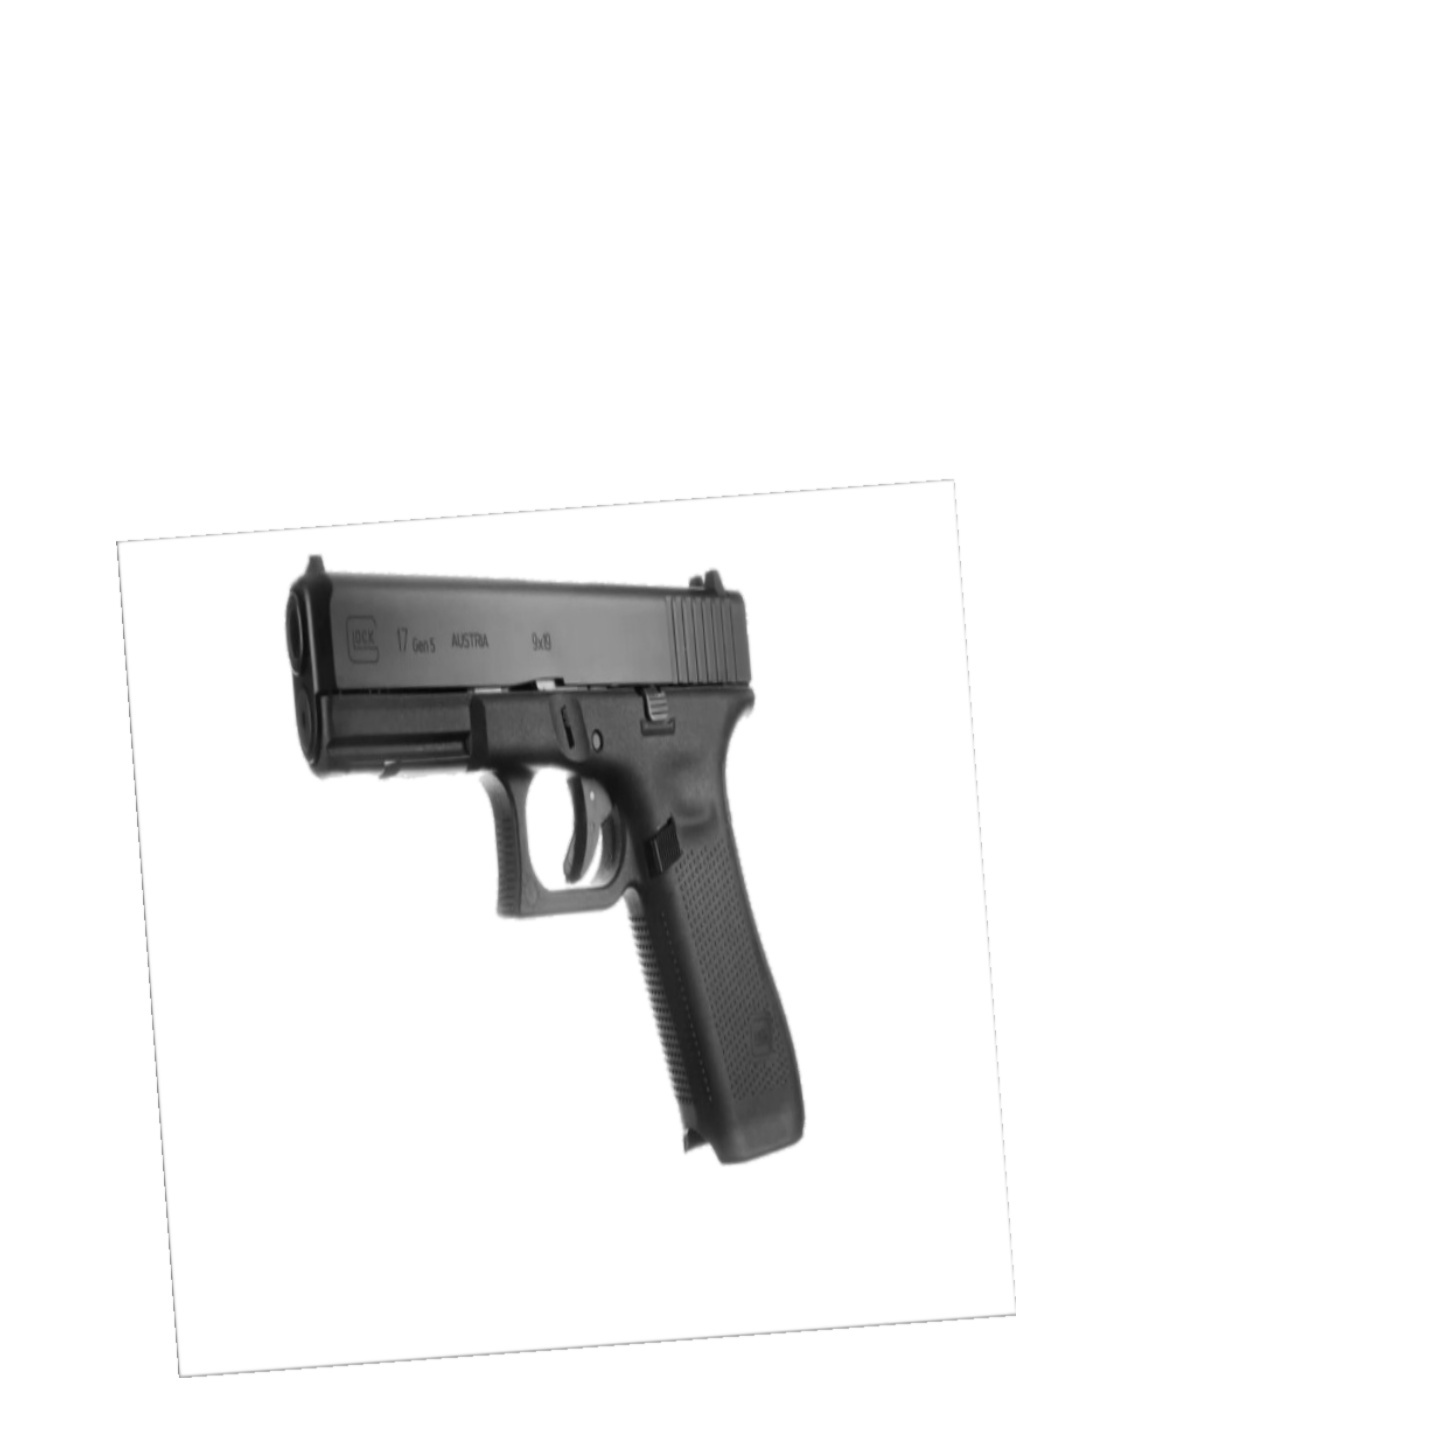gun: (273, 545, 819, 1175)
